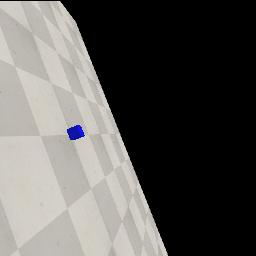box: (67, 125, 85, 140)
